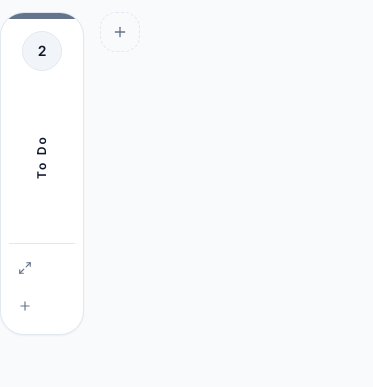
Test case: BoardView collapsed columns › renders a collapsed rail with the column title, task count, and add action
The image size is (373, 387).
Expected: the text "Rocketboard usability + invitations" is not shown
Expected: the text "To Do" is shown, [34,135,49,179]
Click the button named "Add task to To Do": click(25, 306) [9,290,41,322]
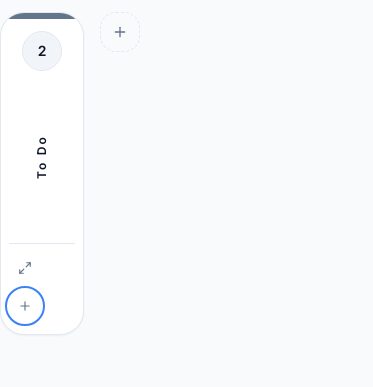
Click the button named "Expand To Do column": click(25, 268) [9,252,41,284]
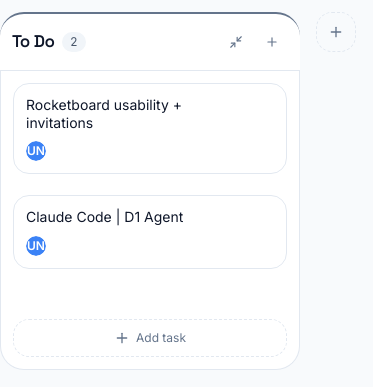
Expected: the heading "Rocketboard usability + invitations" is shown, [26,96,182,130]
